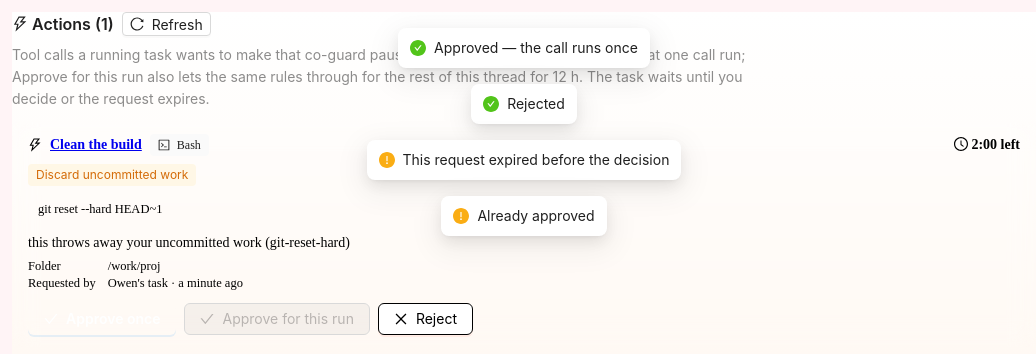
Test case: ActionApprovals cards › a 409 of any kind reloads the request and shows its real state
Click the button "Approve once". click: coordinates (102, 319)
box: top-left (28, 303), bottom-right (176, 335)
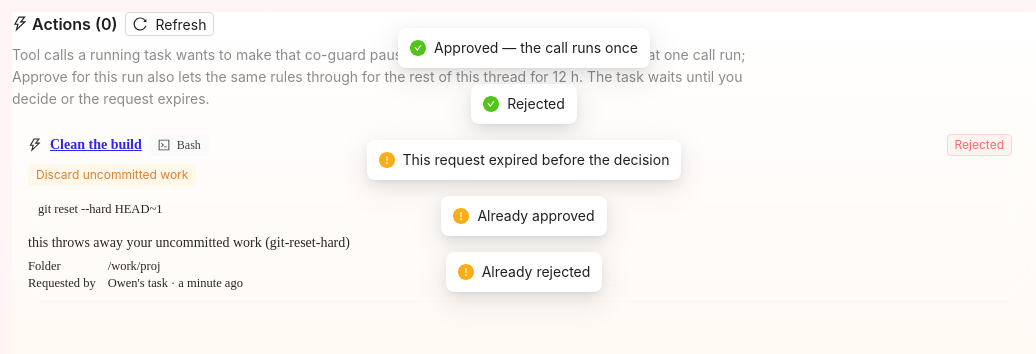
Check: the text "Rejected" in the row of "Bash" is shown, box top-left (954, 137), bottom-right (1004, 152)
